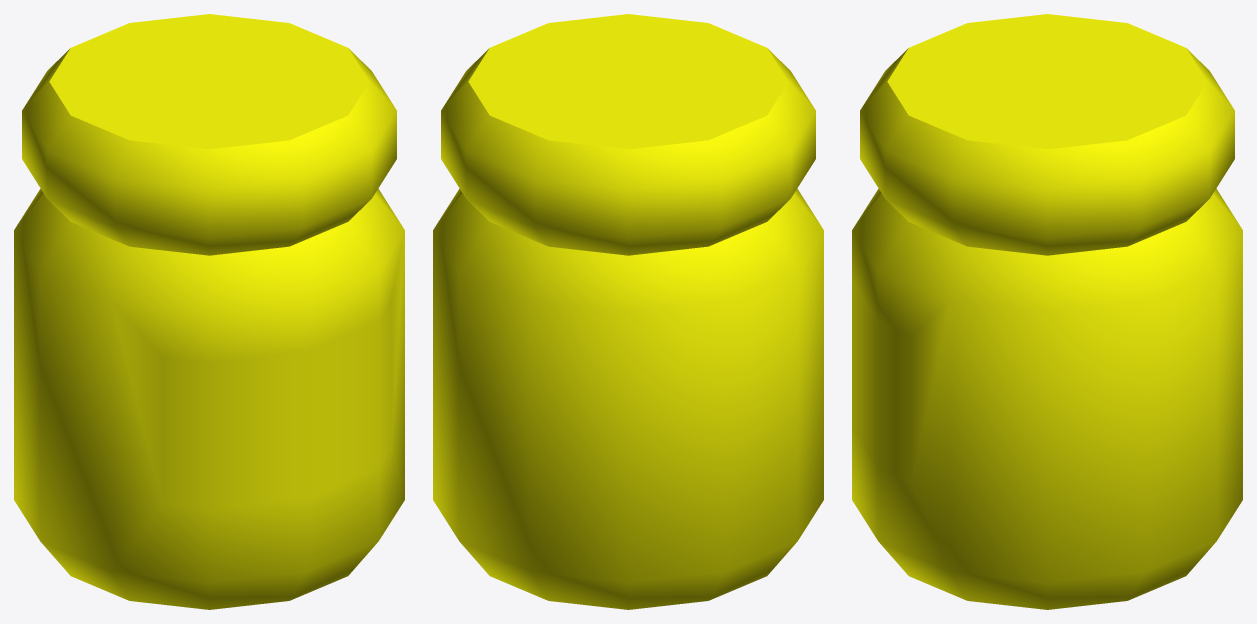
The model's file is jar_A_medium.gltf.
The picture shows the model from 3 angles, left to right: view 1: azimuth 30°, elevation 25°; view 2: azimuth 150°, elevation 25°; view 3: azimuth 270°, elevation 25°; orthographic projection.
Parts seen in each view (by area): view 1: jar_A_medium; view 2: jar_A_medium; view 3: jar_A_medium.
Boxes of the visible parts, box(x1,y1,x2,y2) form: jar_A_medium: box(14, 14, 404, 609); jar_A_medium: box(433, 14, 823, 609); jar_A_medium: box(852, 14, 1242, 609).
Bounding box in the file's own units: 0.5 × 0.65 × 0.5.
Materials: 1 (1 with a texture image).
